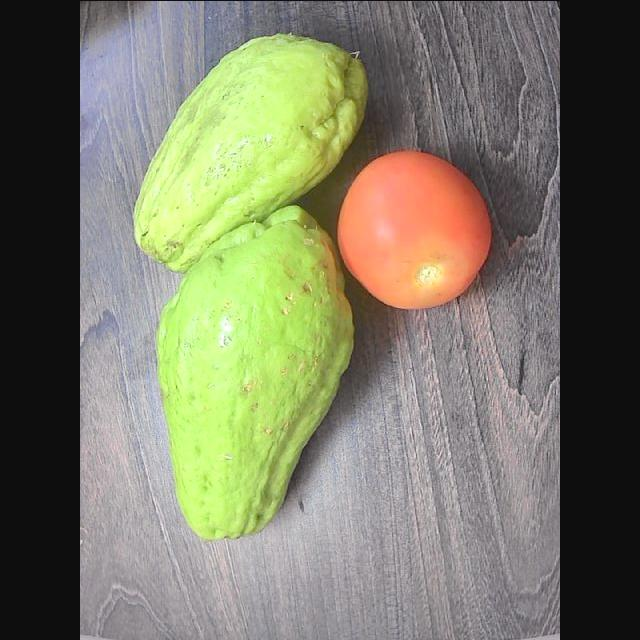chayote: (156, 206, 351, 539), (134, 34, 366, 271)
tomate: (338, 151, 491, 307)
